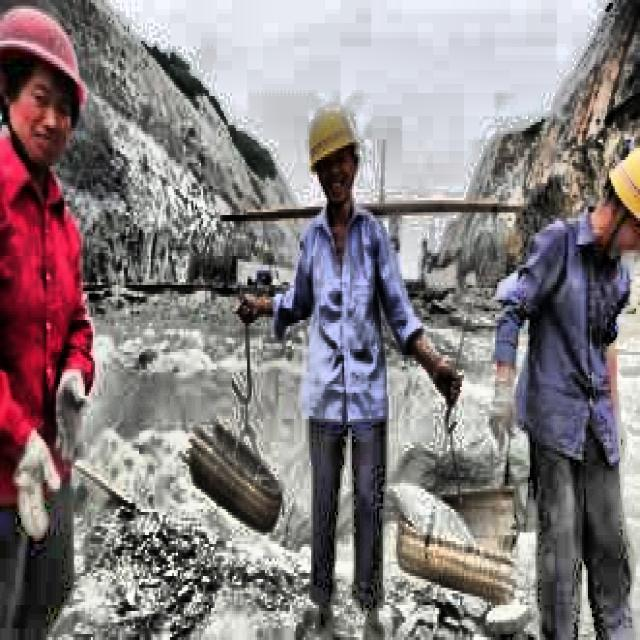helmet: (0, 5, 89, 172), (304, 93, 366, 218), (586, 148, 638, 250)
